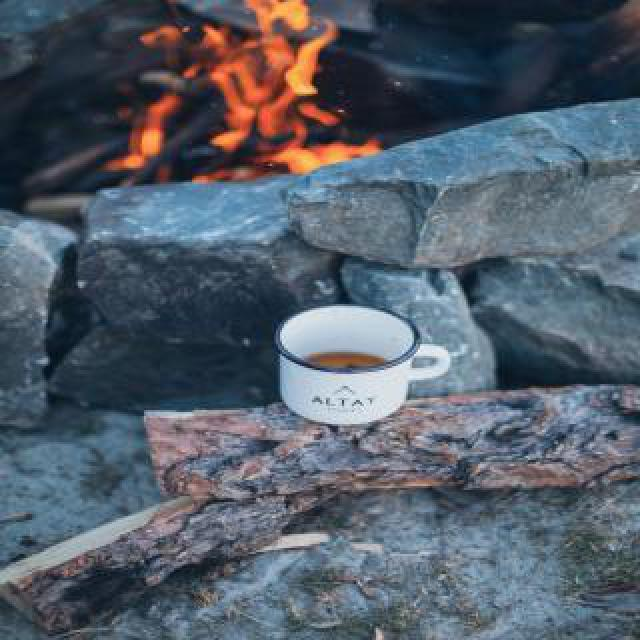zfire: (113, 0, 357, 180)
